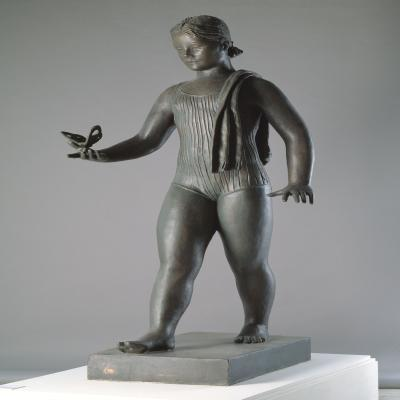sculpture: (63, 16, 314, 387)
